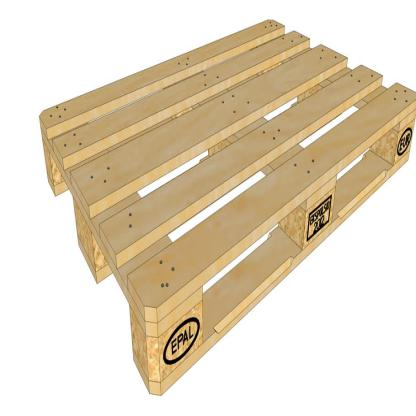BoxFace: (39, 16, 415, 403)
